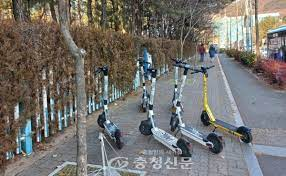kick_board: (93, 64, 123, 149)
kick_handler: (191, 65, 215, 74), (93, 64, 109, 75)
kick_neck: (149, 80, 157, 117), (202, 76, 208, 108), (139, 69, 145, 100), (104, 78, 109, 110), (175, 68, 178, 98)
kick_wheel: (240, 127, 252, 144), (140, 120, 153, 135), (114, 132, 123, 149), (97, 113, 106, 128), (201, 112, 210, 126)
